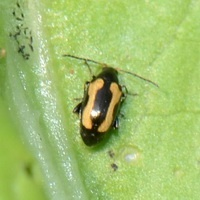insect: (63, 54, 158, 145)
